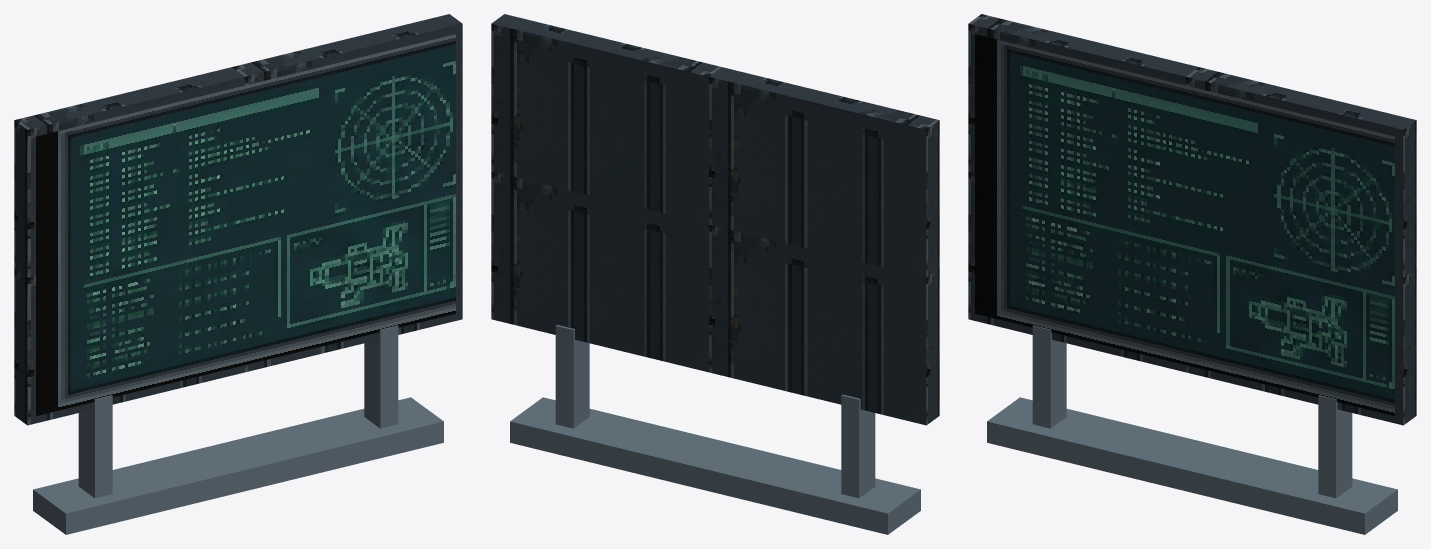
File: information_screen.glb
3 renders of one model, left to right at view 1: azimuth 30°, elevation 25°; view 2: azimuth 150°, elevation 25°; view 3: azimuth 330°, elevation 25°, orthographic.
Parts seen in each view (by area): view 1: information_screen; view 2: information_screen; view 3: information_screen.
Part boxes in pixels (x1,y1,x2,y2): information_screen: (14, 14, 462, 534); information_screen: (491, 14, 939, 534); information_screen: (968, 14, 1416, 534).
Bounding box in the file's own units: 3.42 × 3.04 × 0.45.
Materials: 3 (2 with a texture image).
